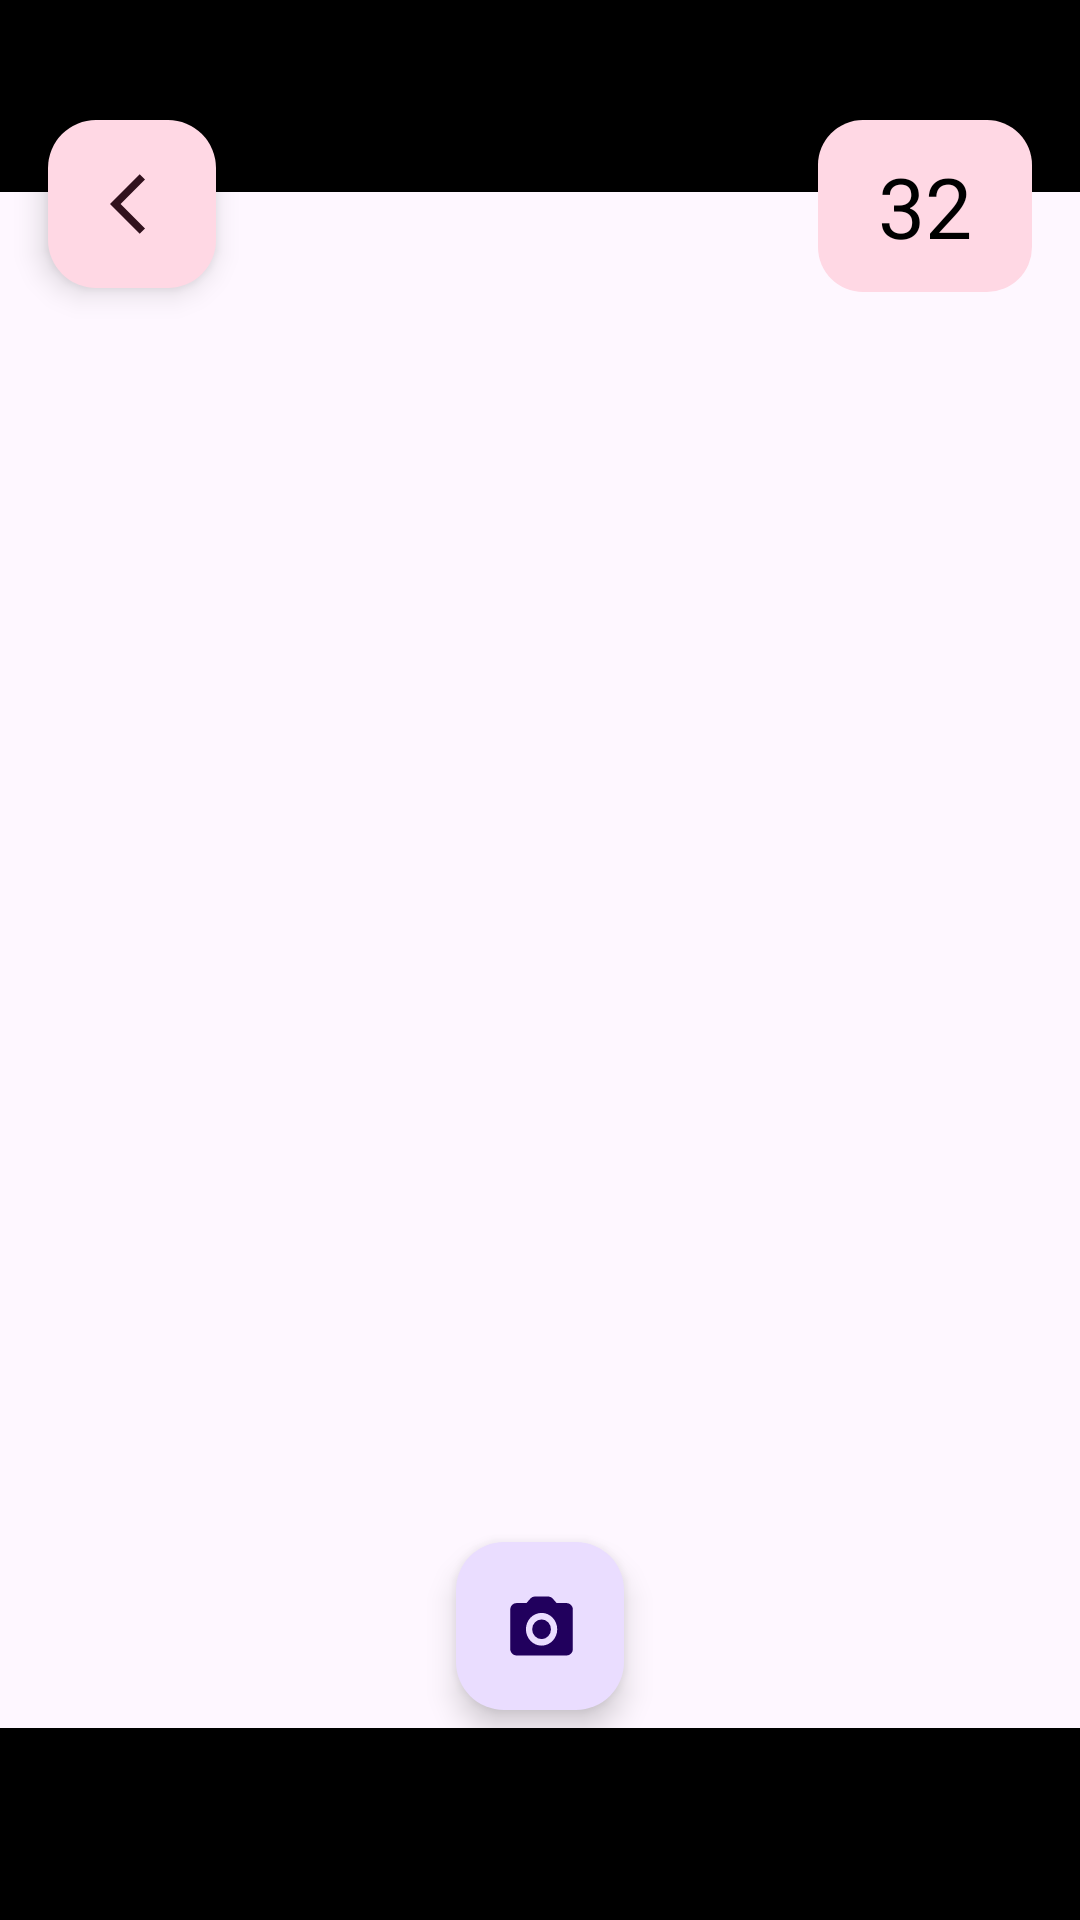

Where to tap for icons on this 1080 x 1920 app screen, as point (x, y):
back: point (132, 204)
camera: point (540, 1626)
